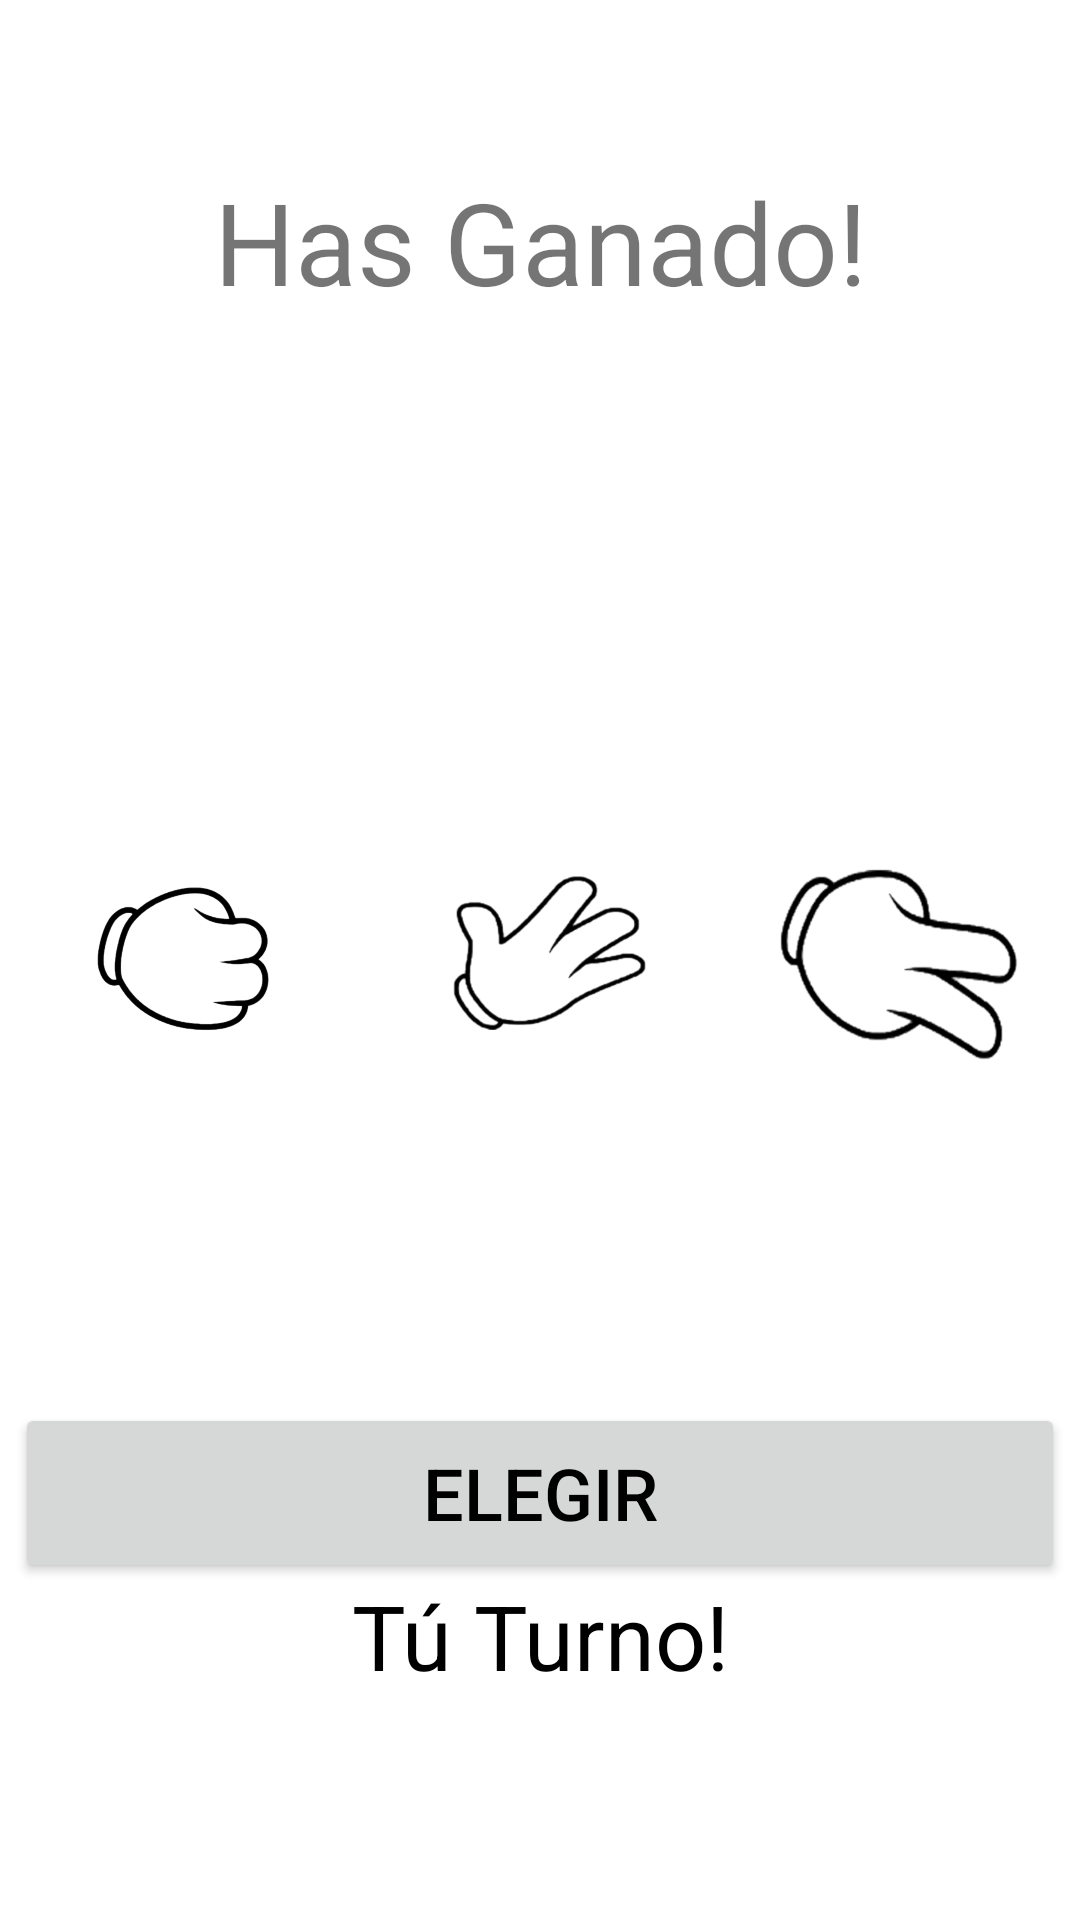

Where to tap for icons on this 1080w x 1920h app screen, as point (x, y):
Papel: point (549, 953)
Piedra: point (183, 958)
Tijeras: point (898, 964)
